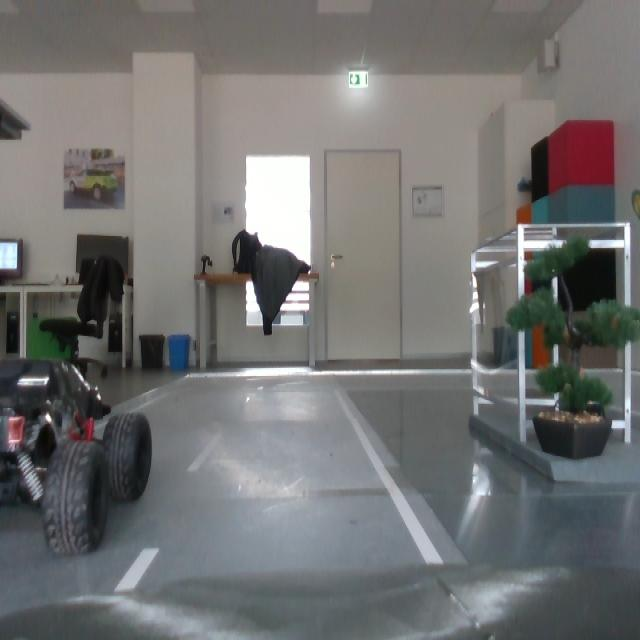car: (1, 345, 154, 562)
potted plant: (507, 239, 640, 417)
